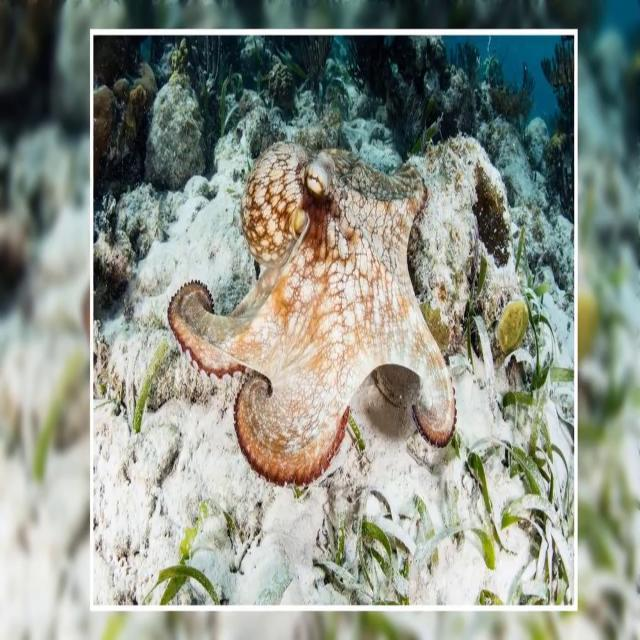octopus: (163, 123, 464, 494)
